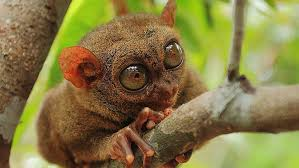tarsier: (32, 1, 202, 165)
